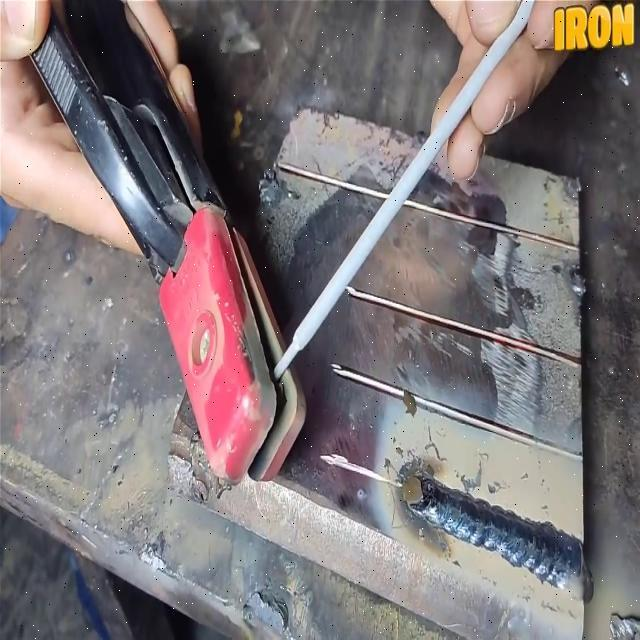Good Welding: (409, 478, 591, 600)
